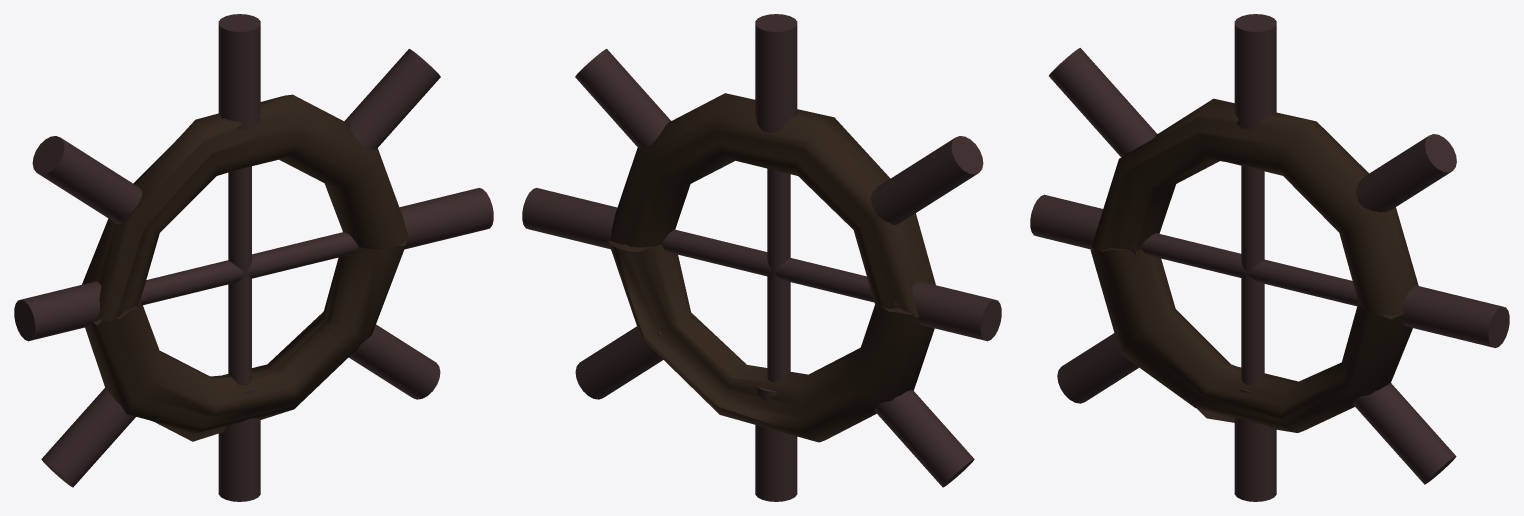
Rendered from Space deburi 04.FBX.
The picture shows the model from 3 angles, left to right: view 1: azimuth 30°, elevation 25°; view 2: azimuth 150°, elevation 25°; view 3: azimuth 330°, elevation 25°; orthographic projection.
Visible parts, largest first — view 1: Tube001, Tube002, Cylinder005, Cylinder006, Cylinder009, Cylinder001, Cylinder007, Cylinder008, Cylinder002, Cylinder003, Cylinder010, Cylinder004; view 2: Tube001, Tube002, Cylinder009, Cylinder005, Cylinder001, Cylinder006, Cylinder008, Cylinder007, Cylinder002, Cylinder003, Cylinder010, Cylinder004; view 3: Tube001, Tube002, Cylinder005, Cylinder009, Cylinder006, Cylinder001, Cylinder010, Cylinder002, Cylinder007, Cylinder004, Cylinder008, Cylinder003.
Boxes of the visible parts, box(x1,y1,x2,y2) form: Tube001: box(82, 94, 408, 320); Tube002: box(85, 238, 408, 441); Cylinder005: box(140, 232, 357, 305); Cylinder006: box(228, 166, 251, 385); Cylinder009: box(32, 136, 142, 224); Cylinder001: box(218, 14, 260, 129); Cylinder007: box(344, 49, 440, 149); Cylinder008: box(41, 388, 135, 487); Cylinder002: box(399, 188, 493, 249); Cylinder003: box(14, 281, 140, 341); Cylinder010: box(349, 324, 440, 399); Cylinder004: box(218, 388, 260, 501); Tube001: box(610, 93, 935, 317); Tube002: box(608, 241, 934, 442); Cylinder009: box(871, 136, 983, 225); Cylinder005: box(662, 229, 874, 302); Cylinder001: box(755, 14, 797, 133); Cylinder006: box(767, 168, 790, 382); Cylinder008: box(875, 390, 974, 487); Cylinder007: box(575, 49, 670, 147); Cylinder002: box(522, 188, 624, 249); Cylinder003: box(875, 282, 1001, 341); Cylinder010: box(575, 326, 663, 399); Cylinder004: box(755, 387, 797, 501); Tube001: box(1091, 98, 1418, 315); Tube002: box(1090, 246, 1412, 432); Cylinder005: box(1140, 233, 1358, 306); Cylinder009: box(1049, 48, 1157, 157); Cylinder006: box(1241, 166, 1264, 384); Cylinder001: box(1234, 14, 1276, 129); Cylinder010: box(1353, 383, 1456, 484); Cylinder002: box(1402, 285, 1509, 347); Cylinder007: box(1356, 134, 1456, 212); Cylinder004: box(1234, 388, 1276, 501); Cylinder008: box(1057, 333, 1138, 403); Cylinder003: box(1030, 194, 1136, 255).
Size of the model in its own units: 213 by 209 by 28.54.
